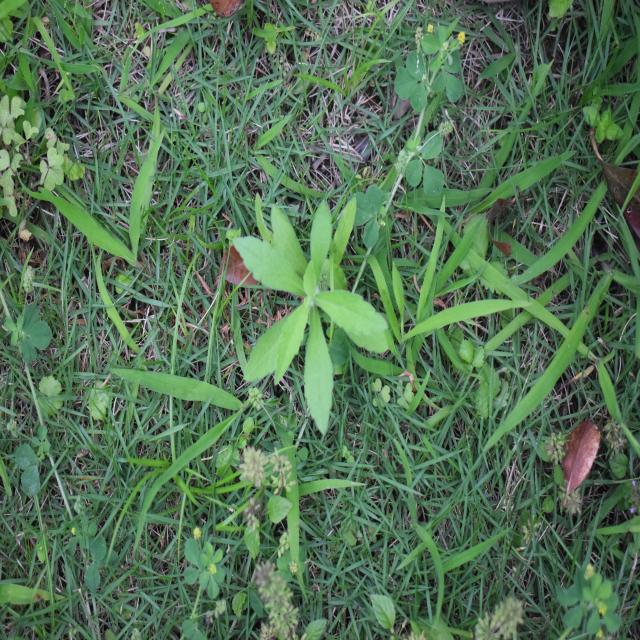horseweed: (249, 187, 380, 424)
